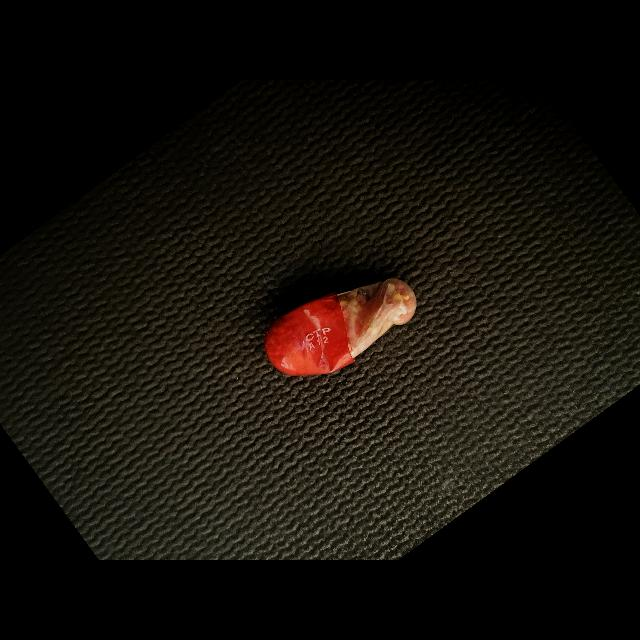Defective Capsule: (265, 278, 417, 376)
